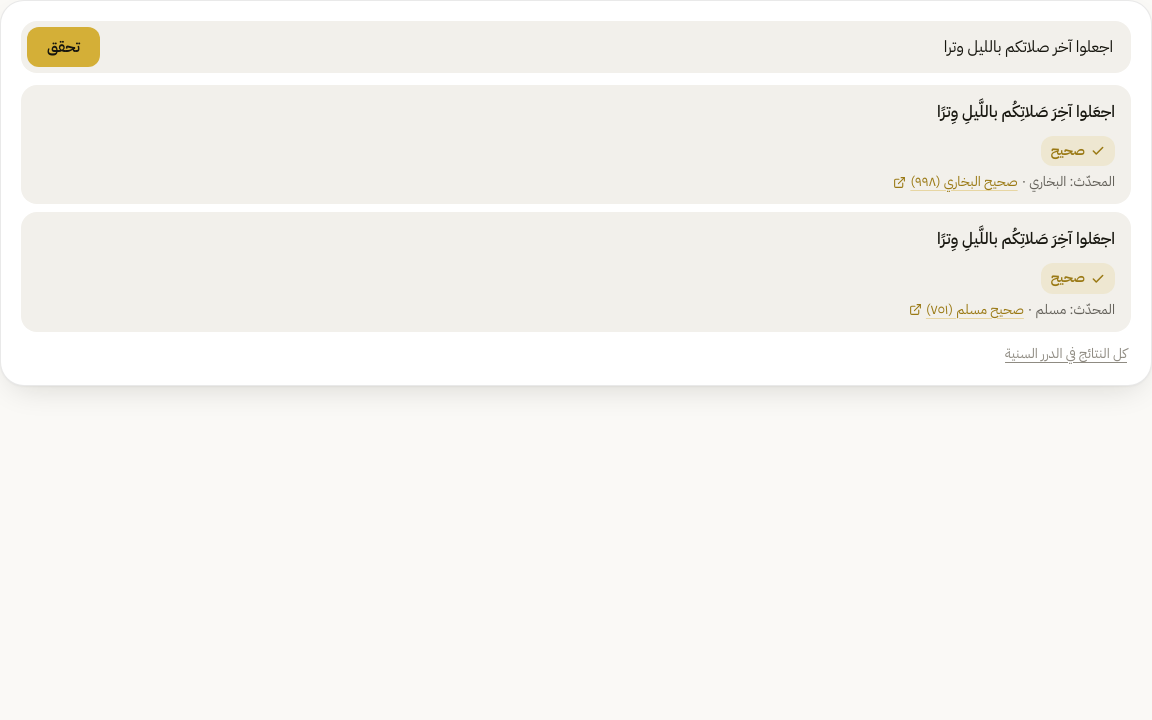
Test: HadithChecker › shows the whole grade, without Dorar's brackets wherever they fall in it
Step 1. Replace the text in the field named "جزء من نص الحديث" with "اطلبوا العلم ولو بالصين" → (616,47), box x1=108 y1=27 x2=1125 y2=67
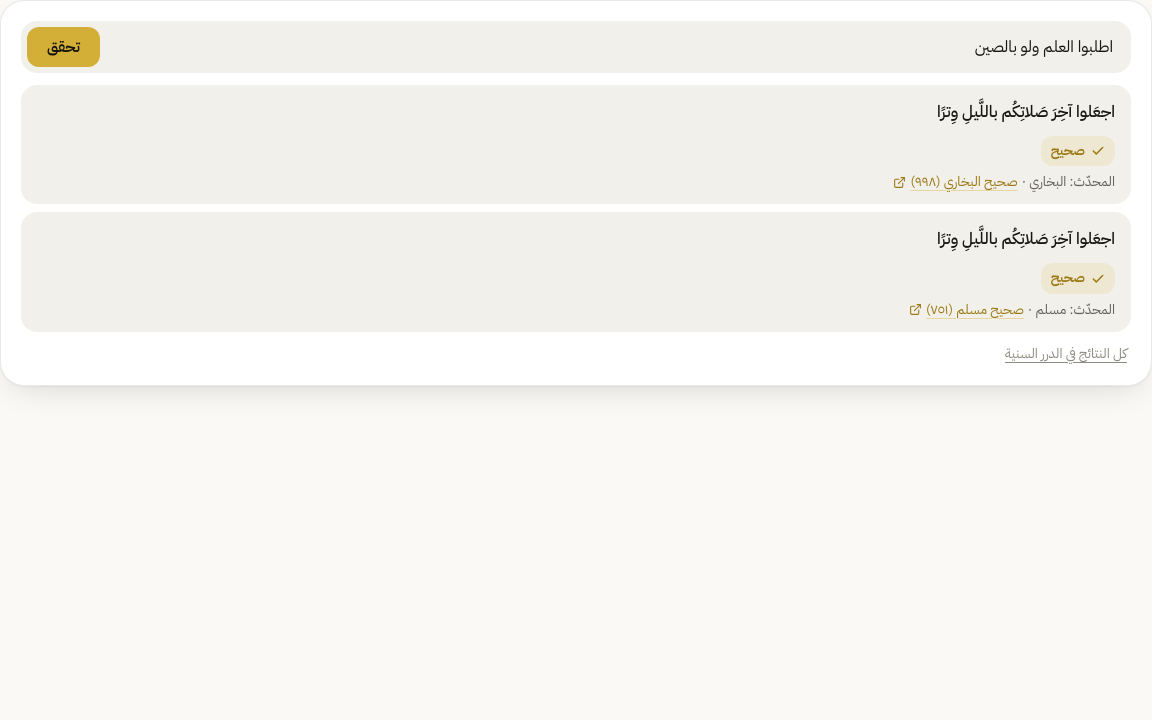
Step 2. Click the button "تحقق" → (63,47), box x1=27 y1=27 x2=100 y2=67
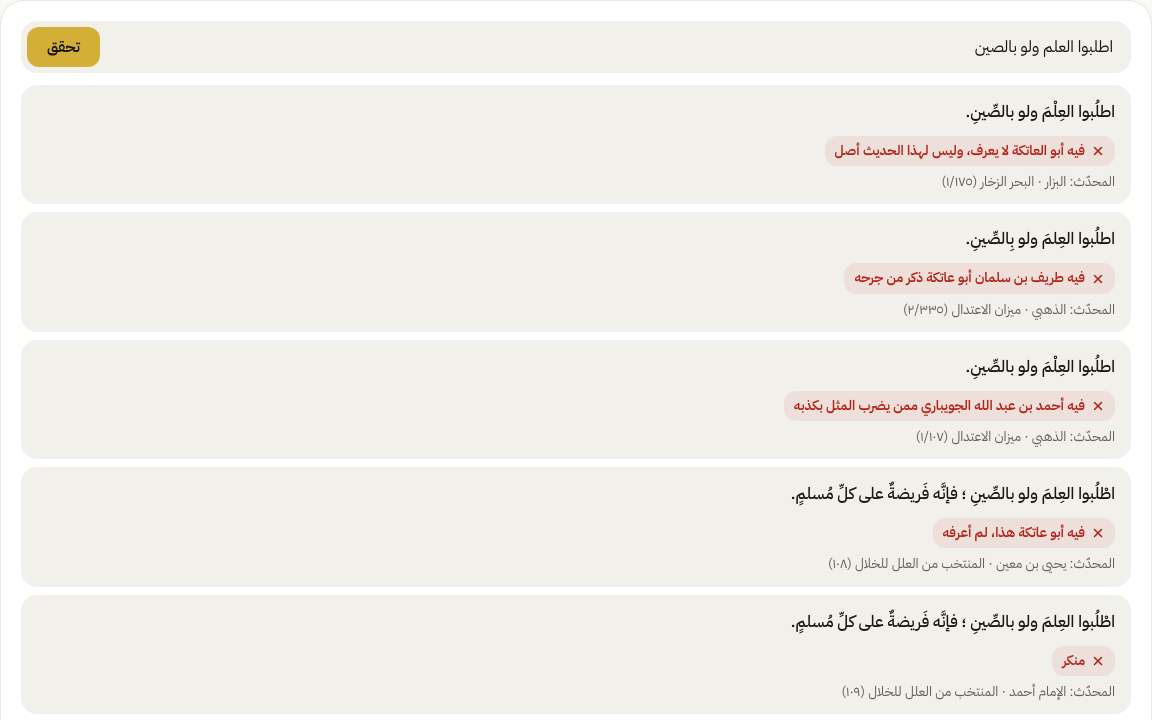
Check: the text "فيه أبو العاتكة لا يعرف، وليس لهذا الحديث أصل" is shown, box x1=835 y1=140 x2=1085 y2=162
Check: the text "منكر" is shown, box x1=1062 y1=650 x2=1085 y2=672
